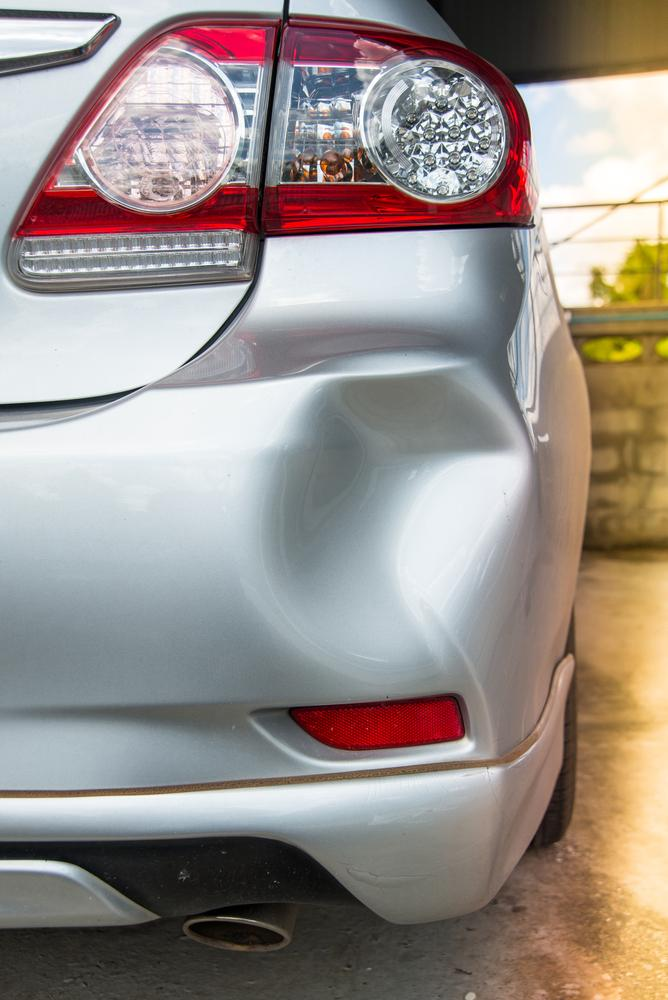dent: (253, 370, 529, 681)
